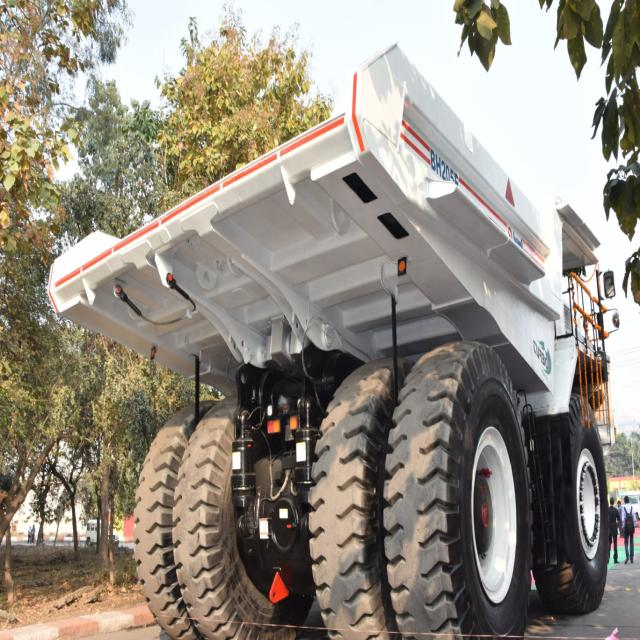truck: (49, 46, 615, 638)
